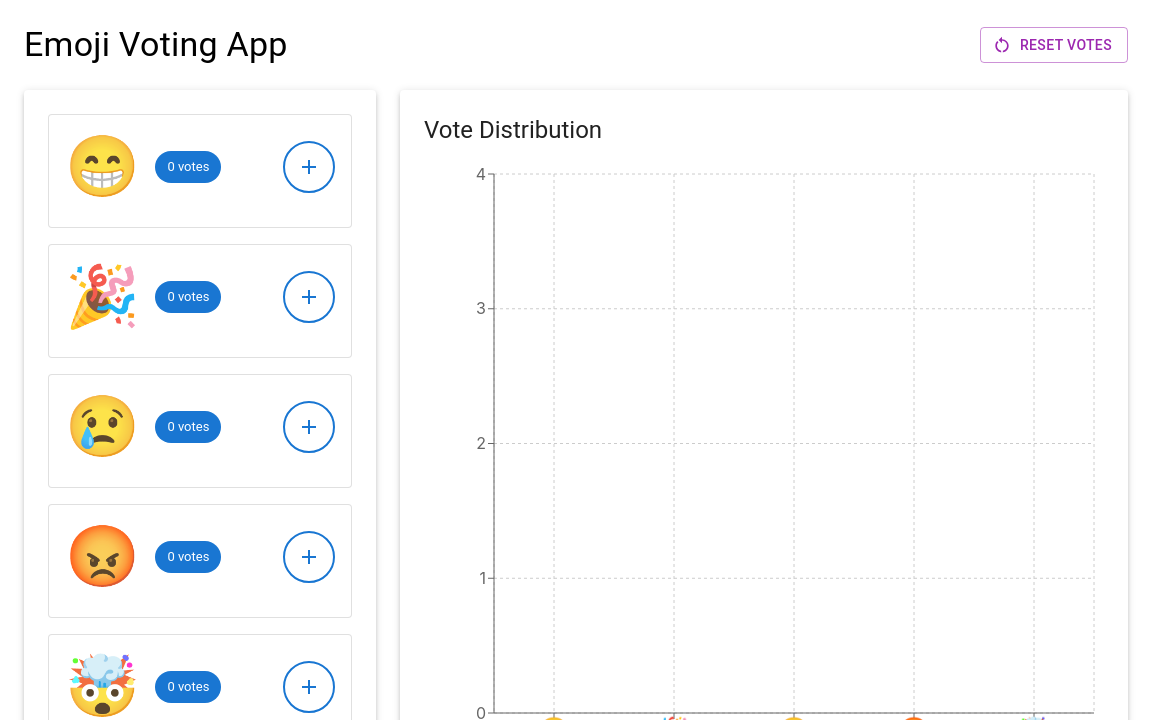
Test case: EmojiVoting Tests › should increase the vote count when clicking the vote button
The width and height of the screenshot is (1152, 720).
Expected: the text "0 votes" is shown 5 times, [167,159,209,174]; [167,289,209,304]; [167,419,209,434]; [167,549,209,564]; [167,679,209,694]
Step 1. Click the button with test id "AddIcon" → (309, 167), box [283,141,335,193]
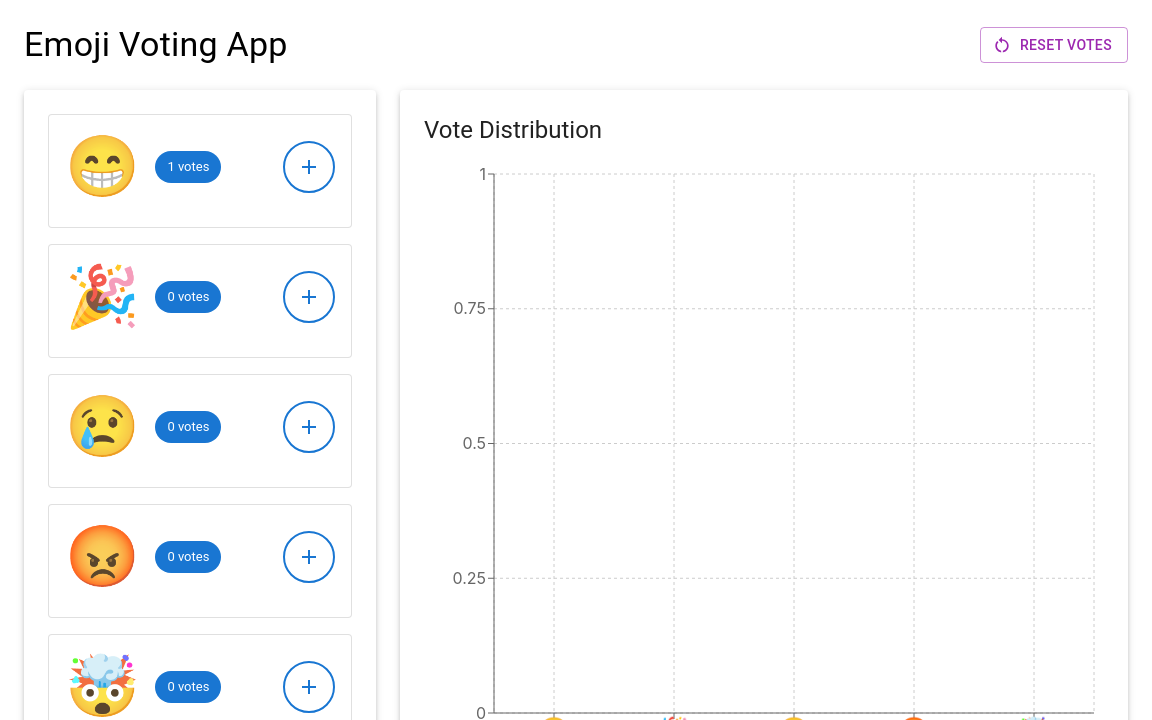
Expected: the text "0 votes" is shown 4 times, [167,289,209,304]; [167,419,209,434]; [167,549,209,564]; [167,679,209,694]
Result: the text "1 votes" is shown at [167,159,209,174]
Step 2. Click the button with test id "AddIcon" → (309, 167), box [283,141,335,193]
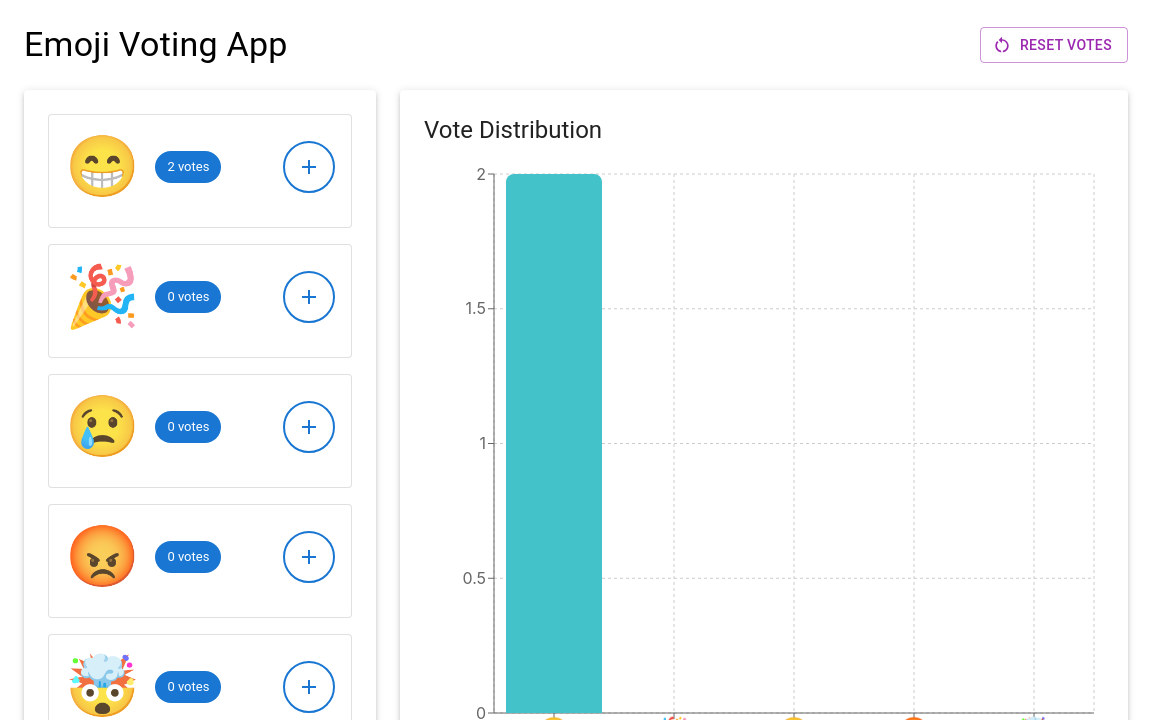
Expected: the text "0 votes" is shown 4 times, [167,289,209,304]; [167,419,209,434]; [167,549,209,564]; [167,679,209,694]
Result: the text "2 votes" is shown at [167,159,209,174]
